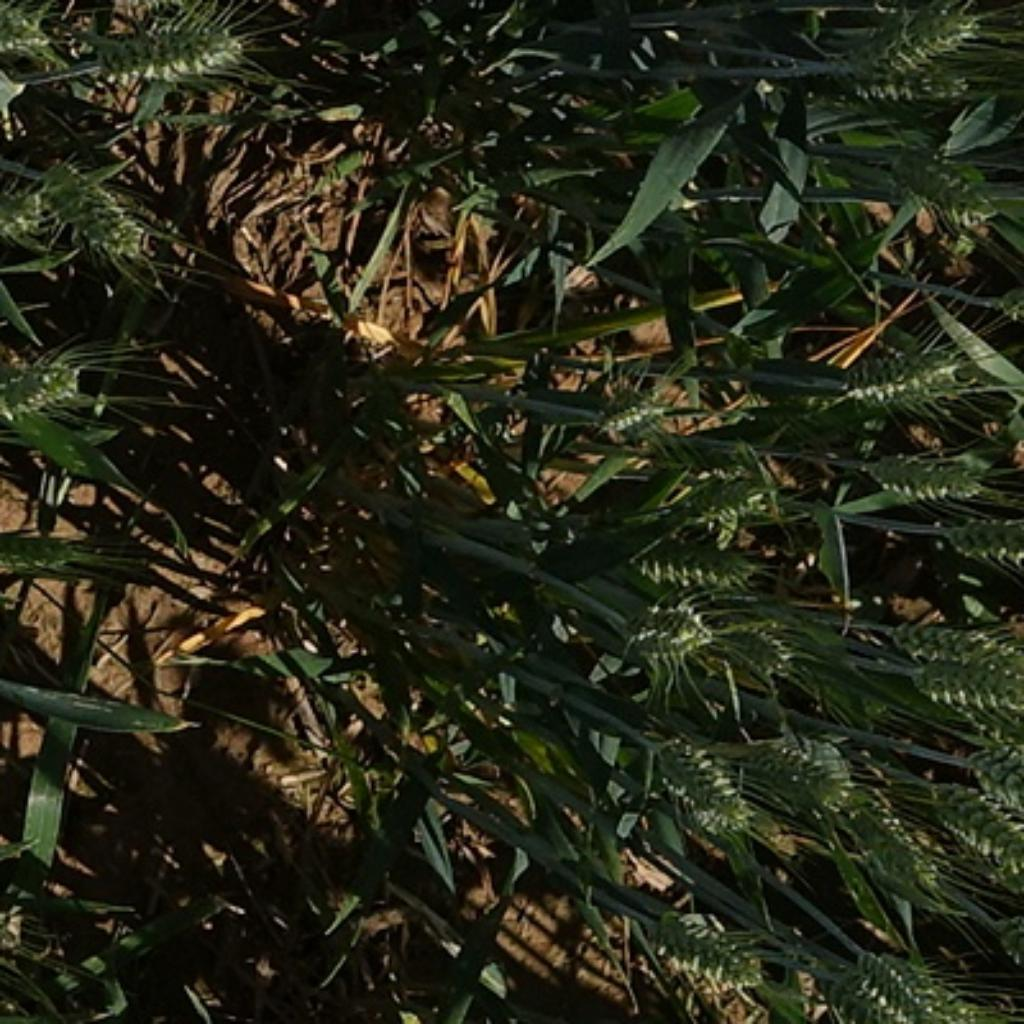0-0: (87, 10, 253, 93), (834, 327, 975, 417), (821, 936, 965, 1024), (36, 159, 152, 267), (648, 902, 784, 994), (641, 729, 751, 842), (891, 138, 1011, 233), (744, 738, 857, 830), (670, 453, 796, 532), (844, 788, 936, 896), (867, 0, 1021, 64), (627, 527, 762, 593), (931, 785, 1024, 876), (860, 442, 990, 506), (0, 335, 92, 422), (834, 46, 970, 104), (622, 596, 719, 675), (893, 660, 1024, 714), (911, 611, 1024, 673), (696, 611, 793, 680), (591, 376, 675, 448), (934, 509, 1024, 570), (0, 0, 66, 66), (958, 732, 1024, 797), (0, 174, 48, 248)
